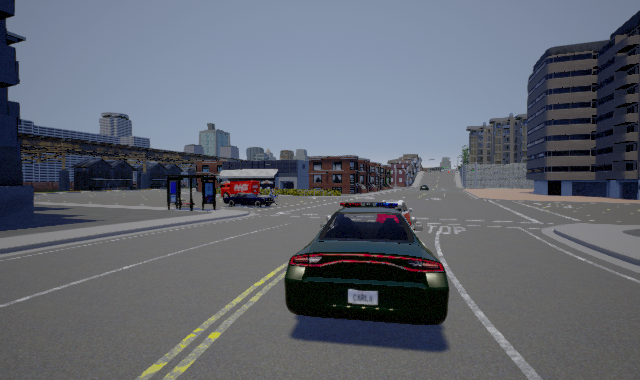vehicle: (284, 199, 450, 325), (220, 181, 278, 208)
